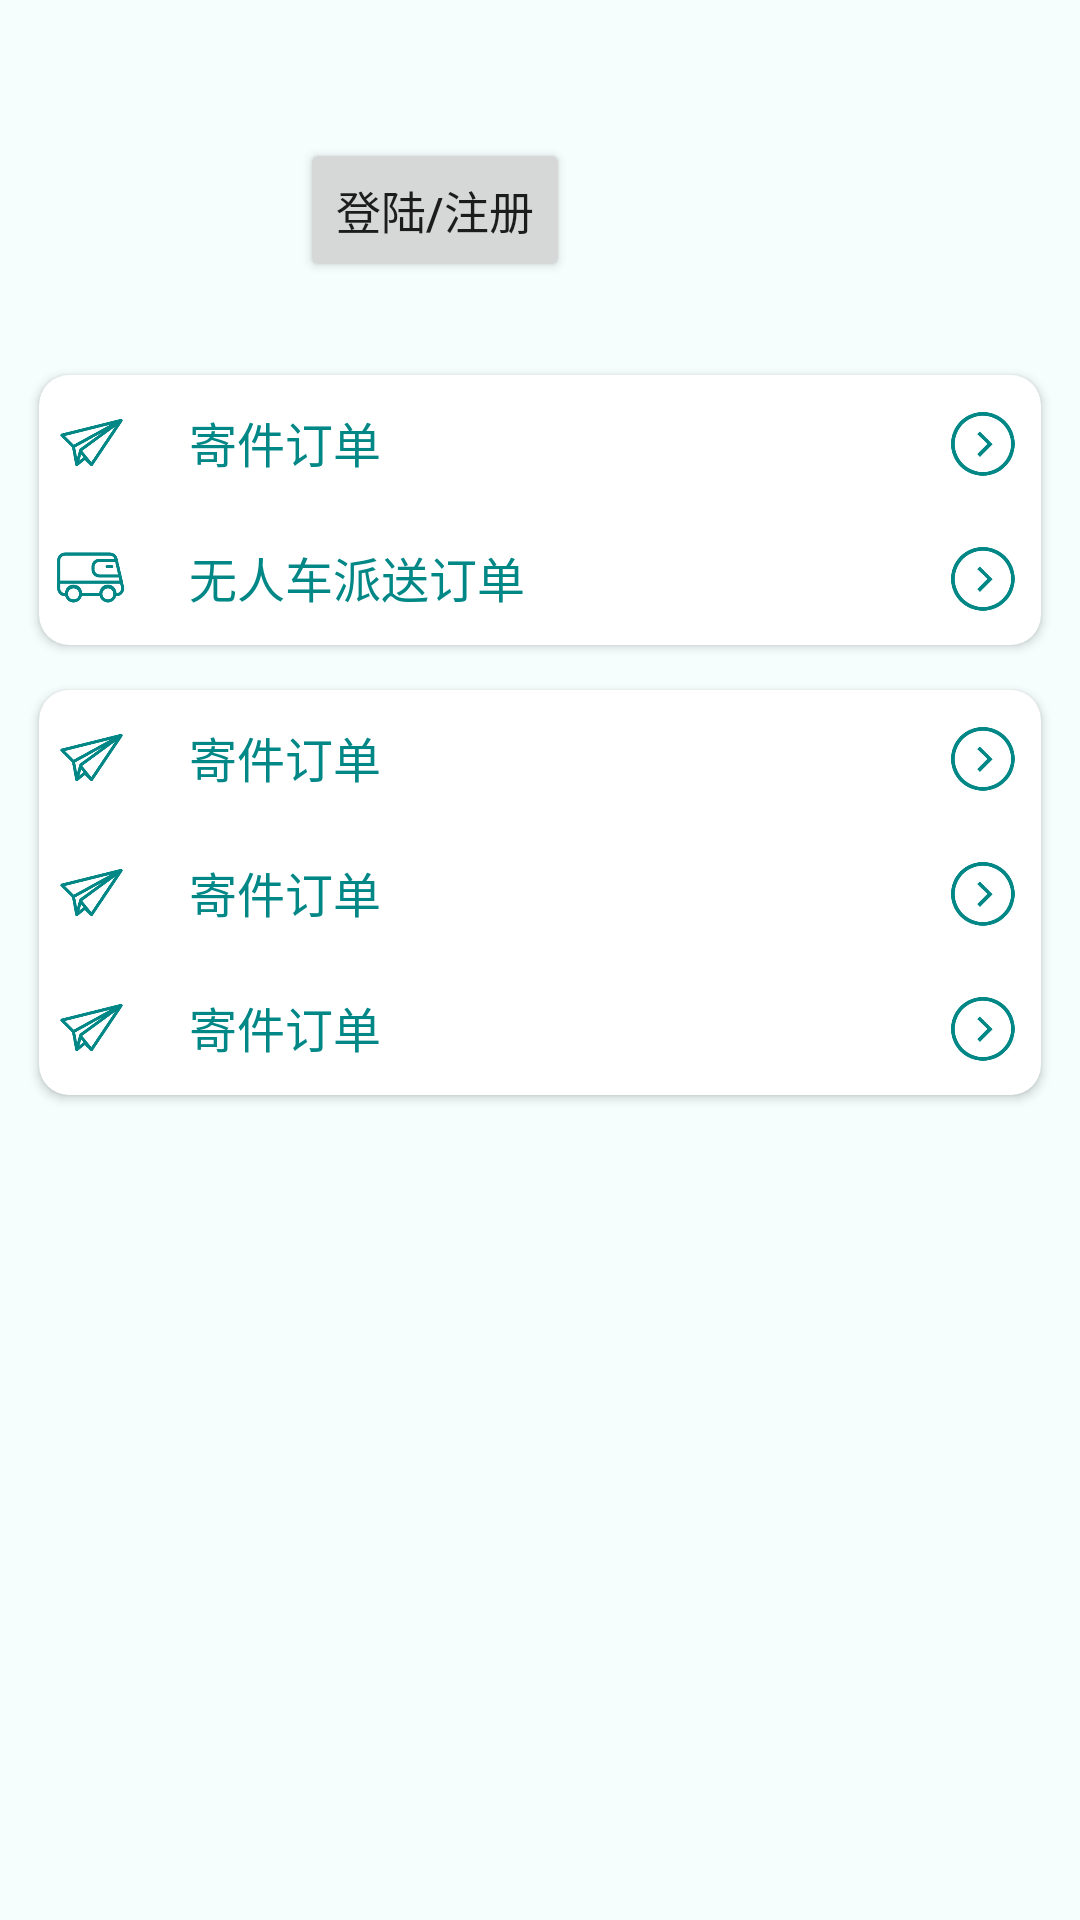

Named icons in this screenshot (1080w x 1920h) and their centers, [x,y]:
airplane: [91,442], [91,757], [91,892], [91,1027]
arrow right: [983,444], [983,579], [983,759], [983,894], [983,1029]
